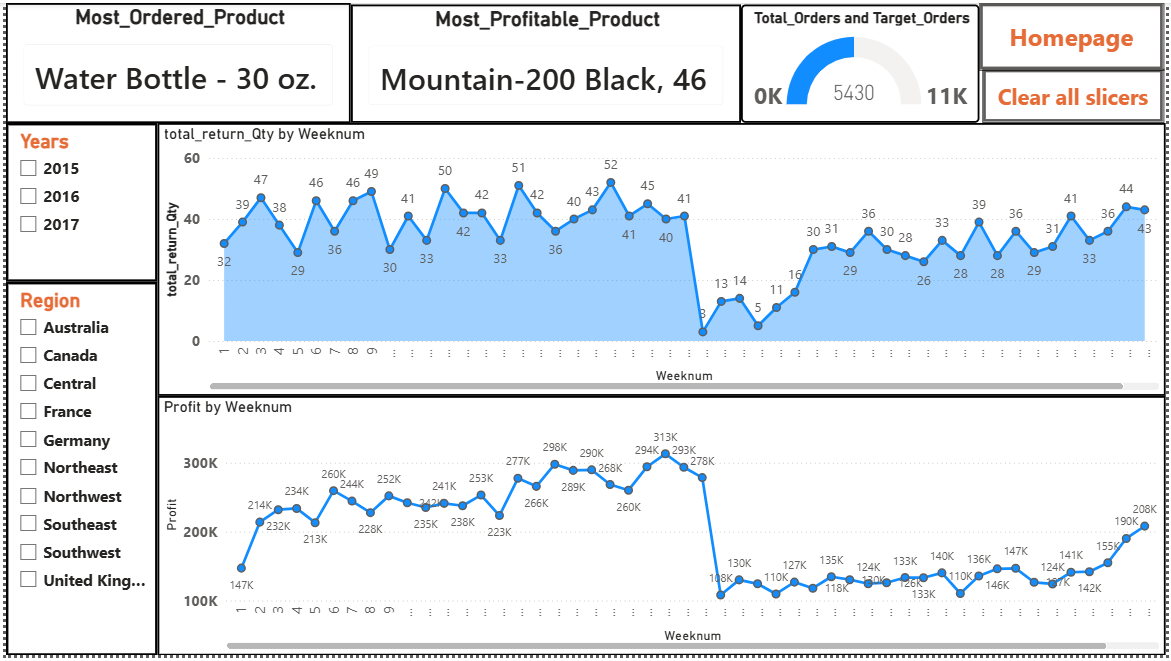

The dashboard page shown, as its layout file describes it:
{"tool":"powerbi","page":{"name":"Product_Analysis","canvas":[1280,720],"ordinal":3},"visuals":[{"type":"cardVisual","title":"Most_Ordered_Product","fields":{"Data":["Min(Products.ProductName)"]},"box":[0,0,381,132.5],"z":0},{"type":"cardVisual","title":"Most_Profitable_Product","fields":{"Data":["Min(Products.ProductName)"]},"box":[381,1.7,430.7,130.9],"z":1000},{"type":"lineChart","fields":{"Category":["Sales.Weeknum"],"Y":["Sales.Profit"]},"box":[167.3,434,1113.2,286.6],"z":2000},{"type":"gauge","fields":{"Y":["Sales.Total_Orders"],"TargetValue":["Sales.Target_Orders"]},"box":[811.7,1.7,263.4,130.9],"z":3000},{"type":"areaChart","fields":{"Category":["Returns.Weeknum"],"Y":["Returns.total_return_Qty"]},"box":[167.3,132.5,1113.2,301.5],"z":4000},{"type":"actionButton","box":[1078.4,72.9,200.4,59.6],"z":5000},{"type":"actionButton","title":"Homepage","box":[1075.1,0,203.7,74.5],"z":6000},{"type":"slicer","fields":{"Values":["Calendars.Dates.Years"]},"box":[0,132.5,167.3,175.6],"z":7000},{"type":"slicer","fields":{"Values":["Territories.Region"]},"box":[0,308.1,167.3,412.5],"z":8000}]}

Visuals, with their boxes in screenshot pixels (x1, y1, x2, y2), scaled from the page's 1280x720 canvas onto the 1171x661 screenshot:
"Most_Ordered_Product" cardVisual: x1=0, y1=0, x2=349, y2=122
"Most_Profitable_Product" cardVisual: x1=349, y1=2, x2=743, y2=122
lineChart - Sales.Weeknum x Sales.Profit: x1=153, y1=398, x2=1170, y2=660
gauge - Sales.Total_Orders x Sales.Target_Orders: x1=743, y1=2, x2=984, y2=122
areaChart - Returns.Weeknum x Returns.total_return_Qty: x1=153, y1=122, x2=1170, y2=398
actionButton: x1=987, y1=67, x2=1170, y2=122
"Homepage" actionButton: x1=984, y1=0, x2=1170, y2=68
slicer - Calendars.Dates.Years: x1=0, y1=122, x2=153, y2=283
slicer - Territories.Region: x1=0, y1=283, x2=153, y2=660
